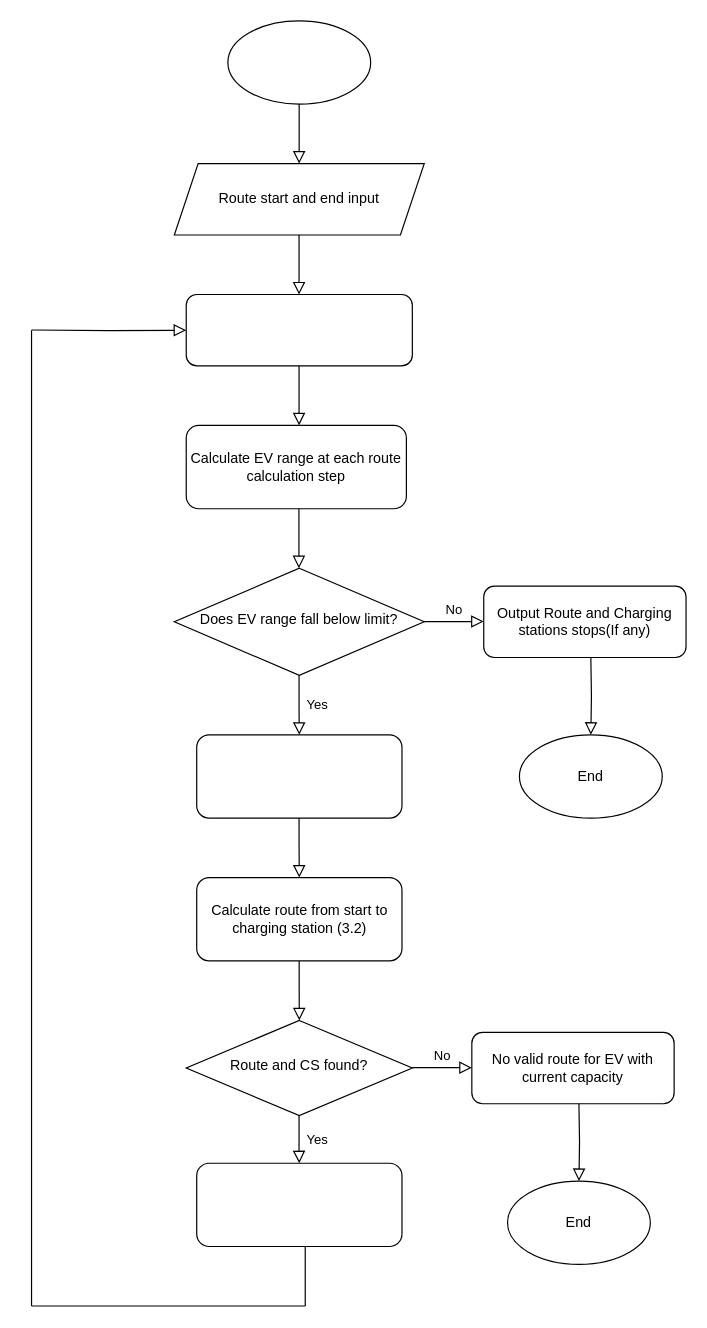
This 707x1328 diagram has some shape labels left out. The shapes that lost their labels are listed below. From the top down, each one's centre as x and y in pixels, then its label:
point (299, 62): Start
point (298, 329): Calculate route from start to end (3.2)
point (299, 776): Find best charging station from point where range falls below limit (3.3)
point (299, 1204): Set new start point as node after charging station
